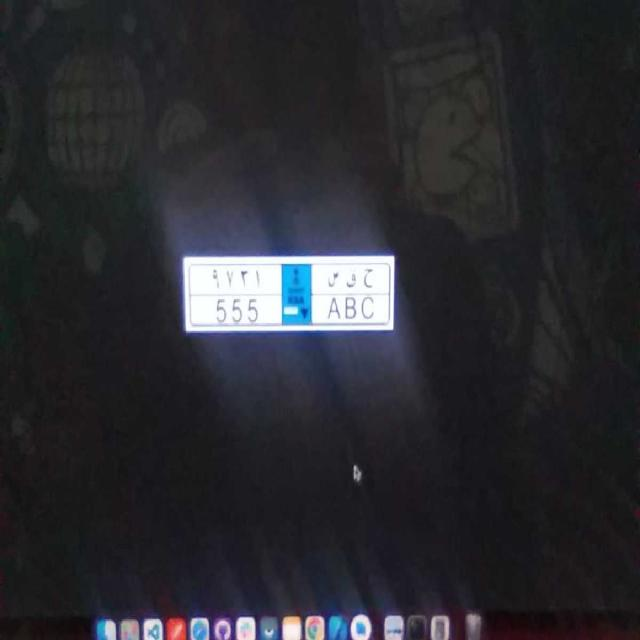license_plate: (204, 290, 381, 334)
